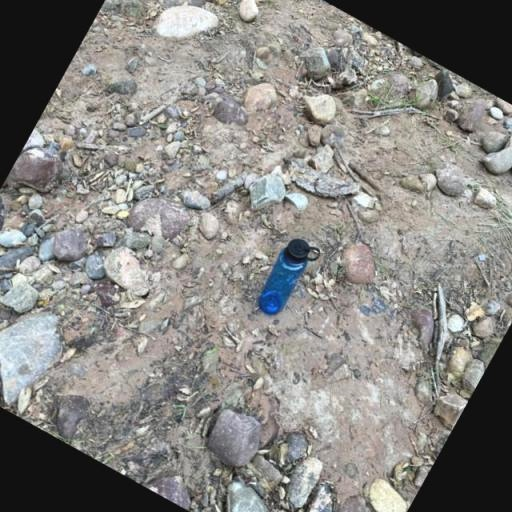bottle: (251, 234, 323, 323)
